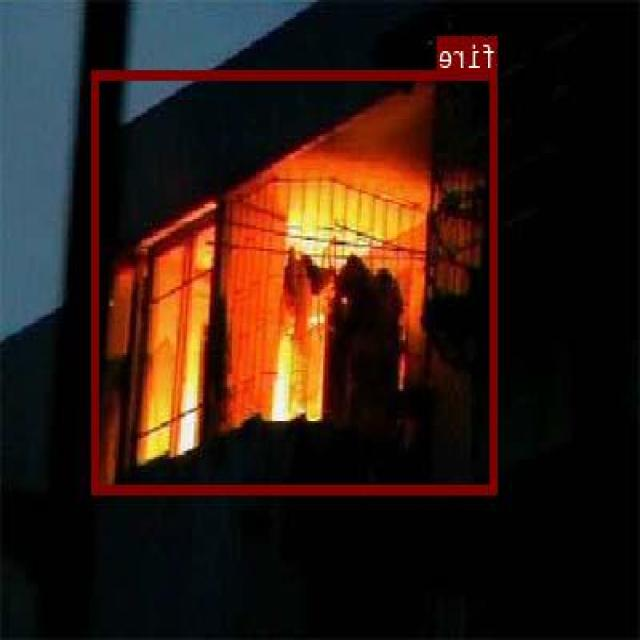fire: (93, 69, 498, 492)
